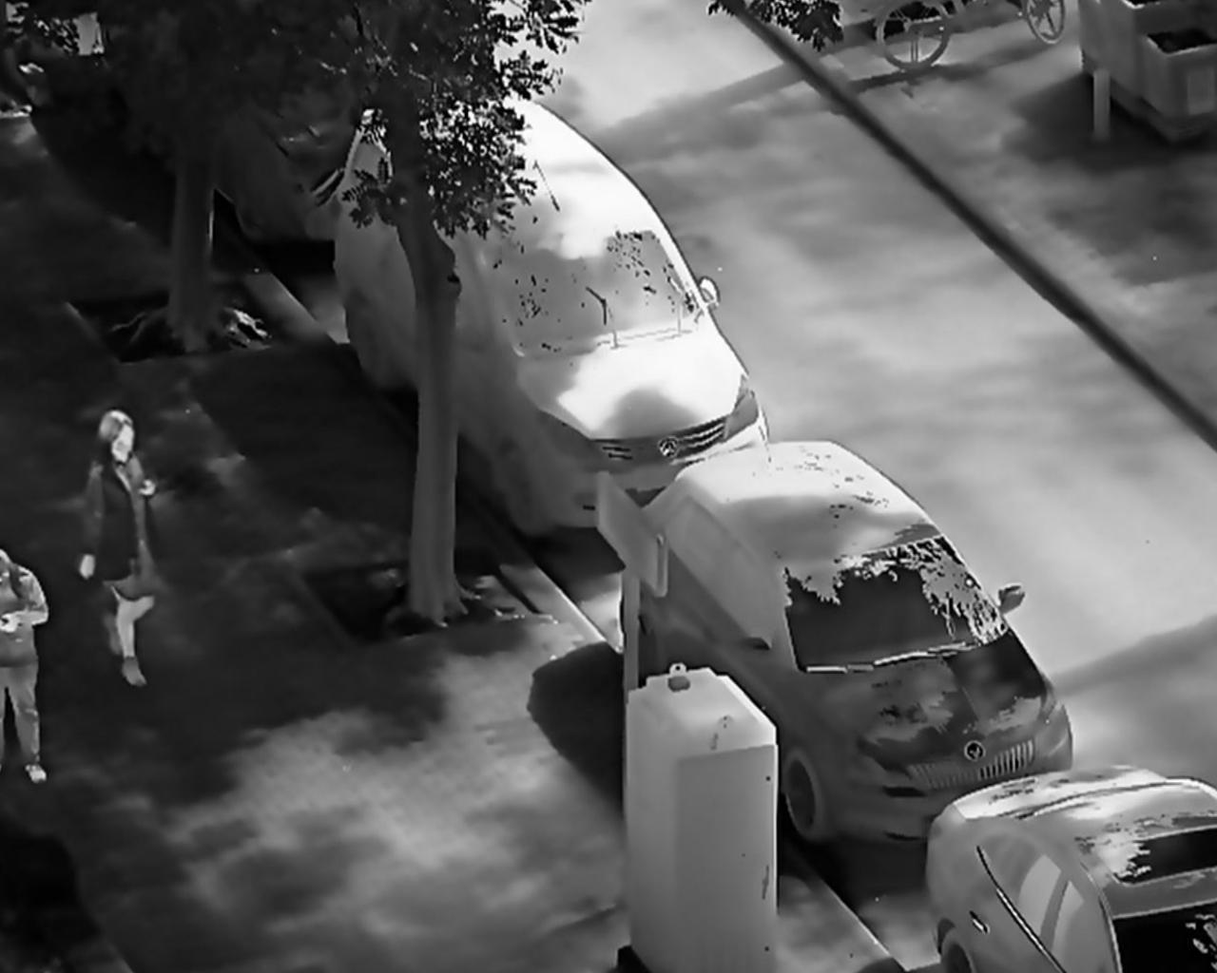person: (77, 405, 167, 692)
